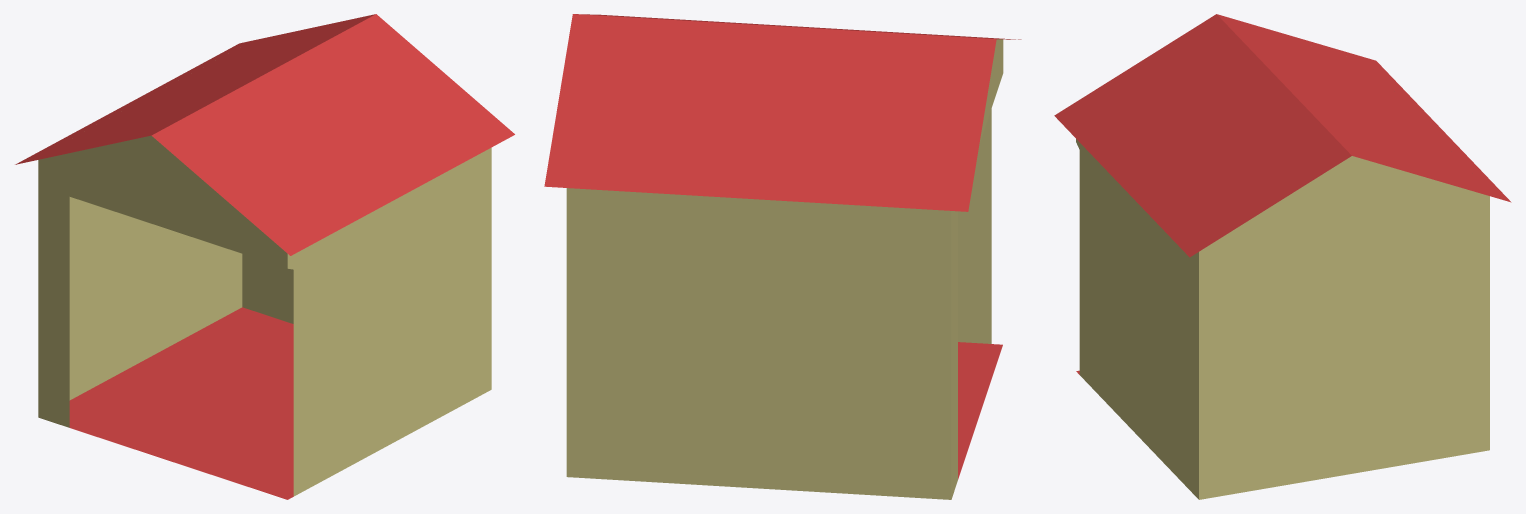
The picture shows the model from 3 angles, left to right: view 1: azimuth 30°, elevation 25°; view 2: azimuth 150°, elevation 25°; view 3: azimuth 270°, elevation 25°; orthographic projection. The views are drawn at different scales.
Bounding box in the file's own units: 13.88 × 13.64 × 10.71.
